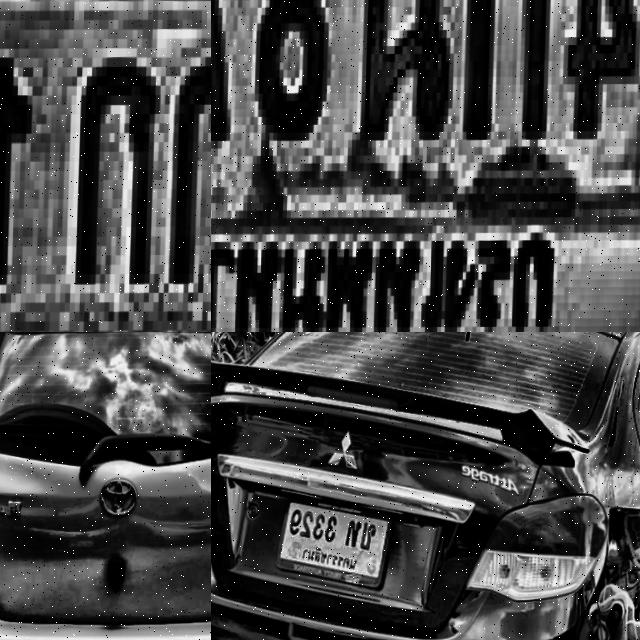license-plate: (211, 0, 640, 332), (0, 0, 211, 332), (268, 491, 397, 593)
